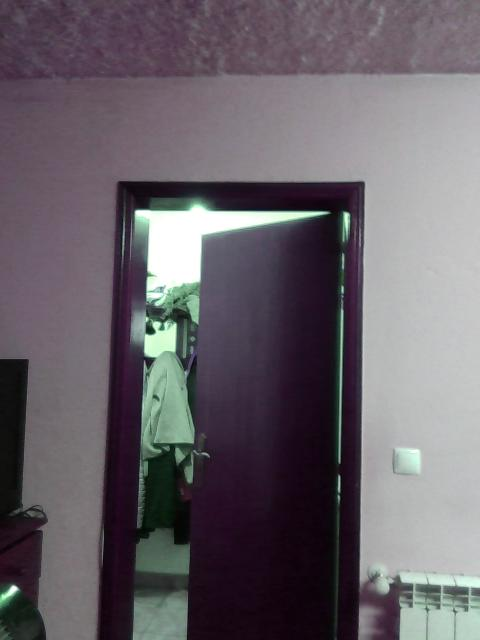semi_door: (95, 176, 366, 639)
